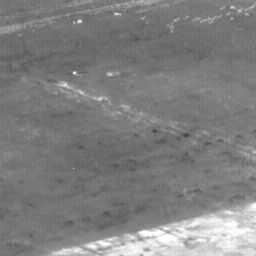aircraft: (74, 72, 76, 74)
